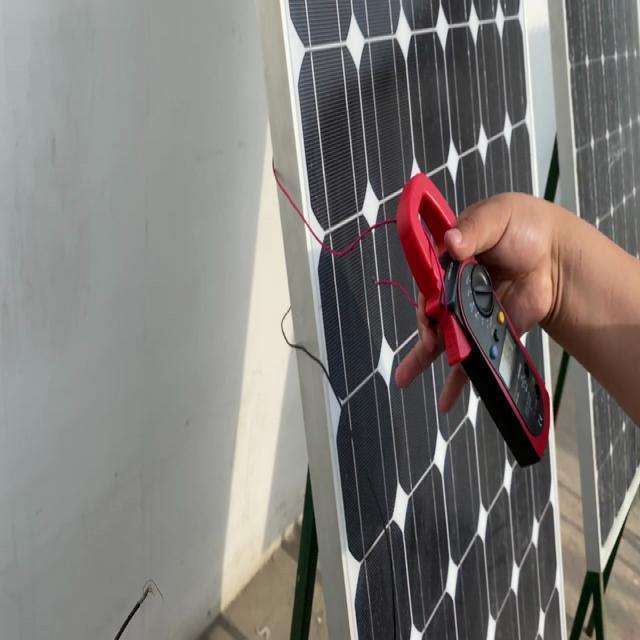Normal Solar Panel: (281, 193, 566, 640), (261, 0, 539, 248)
